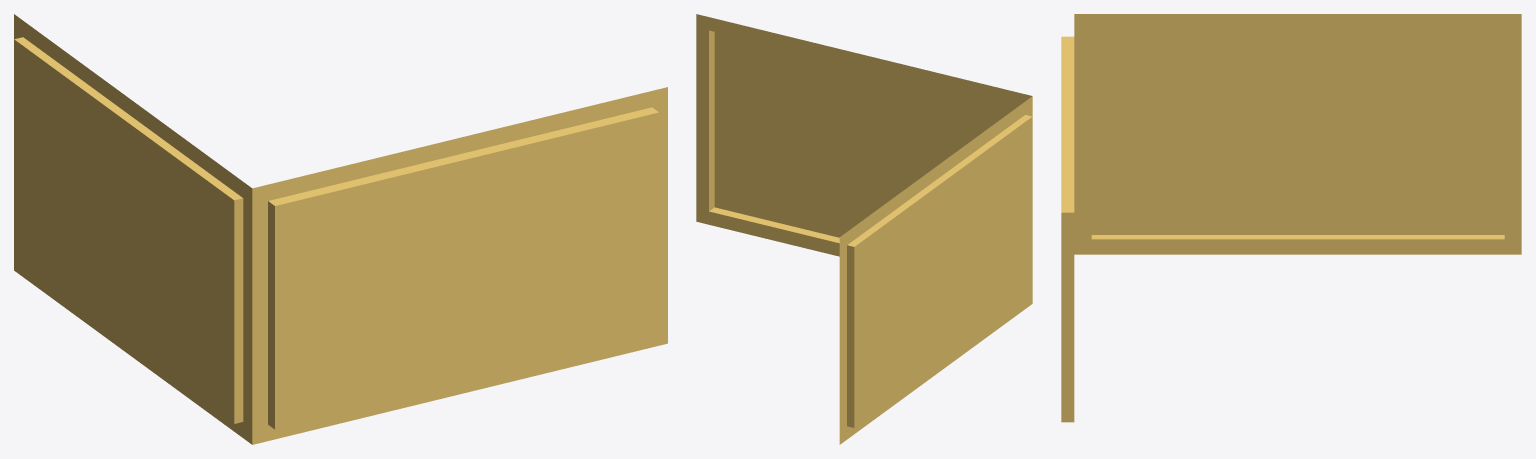
Rendered from wall.glb.
3 views of the same model, side by side, from view 1: azimuth 30°, elevation 25°; view 2: azimuth 150°, elevation 25°; view 3: azimuth 270°, elevation 25° (orthographic). The views are drawn at different scales.
Visible parts, largest first — view 1: Walls; view 2: Walls; view 3: Walls.
Part boxes in pixels (bbox=[...]): Walls: bbox=[14, 14, 667, 444]; Walls: bbox=[696, 14, 1032, 444]; Walls: bbox=[1061, 14, 1521, 422].
Bounding box in the file's own units: 5.15 × 2.98 × 5.16.
